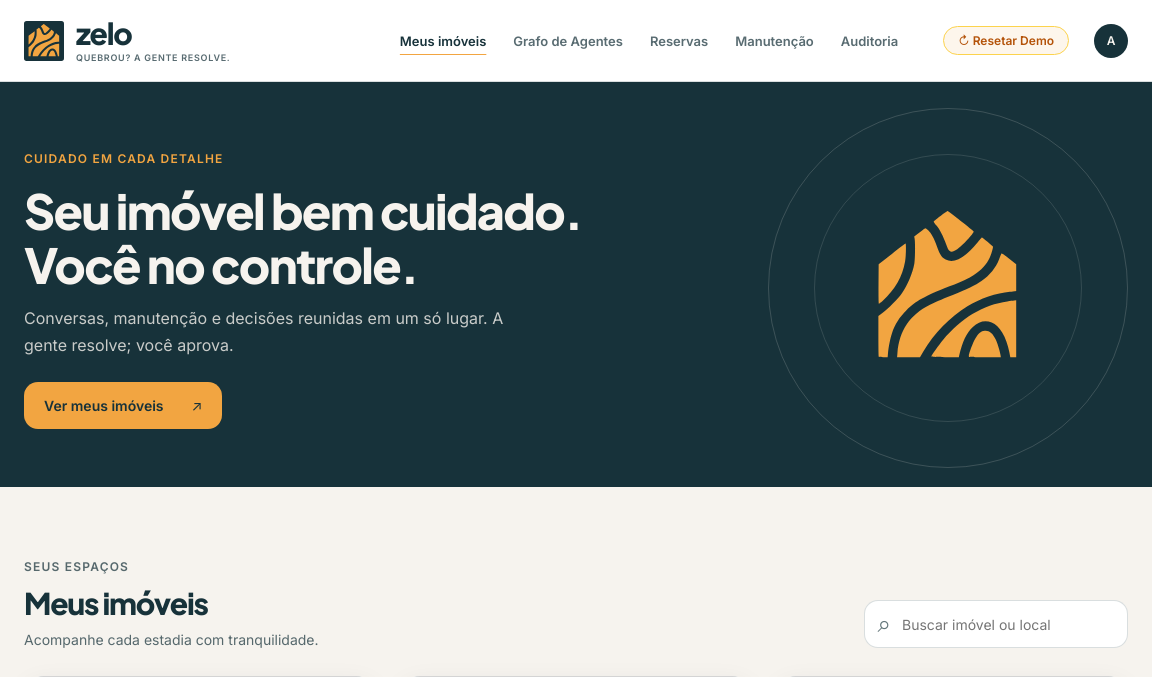
Test: navegação por imóvel › abre e fecha o modal de reset de demonstração para avaliadores
The image size is (1152, 677).
Click the button "↻ Resetar Demo".
click(1006, 40)  # box left=943, top=26, right=1069, bottom=55
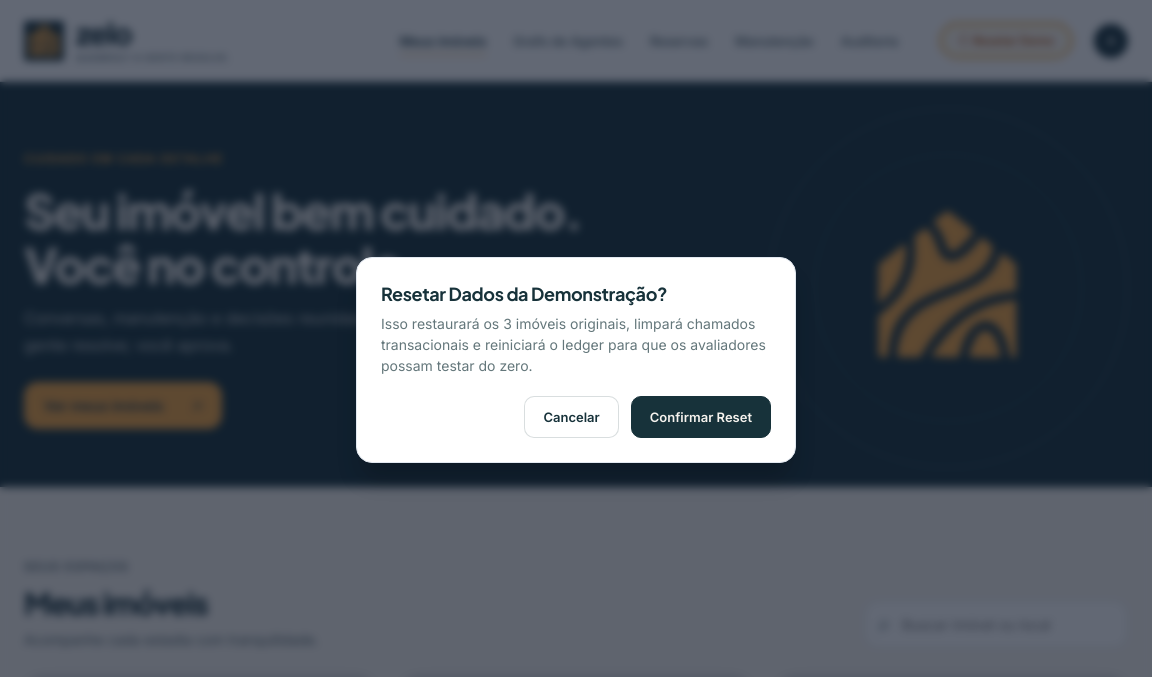
Now the heading "Resetar Dados da Demonstração?" is shown, box left=381, top=282, right=667, bottom=305
Click the button "Cancelar".
click(572, 417)  # box left=524, top=396, right=619, bottom=438
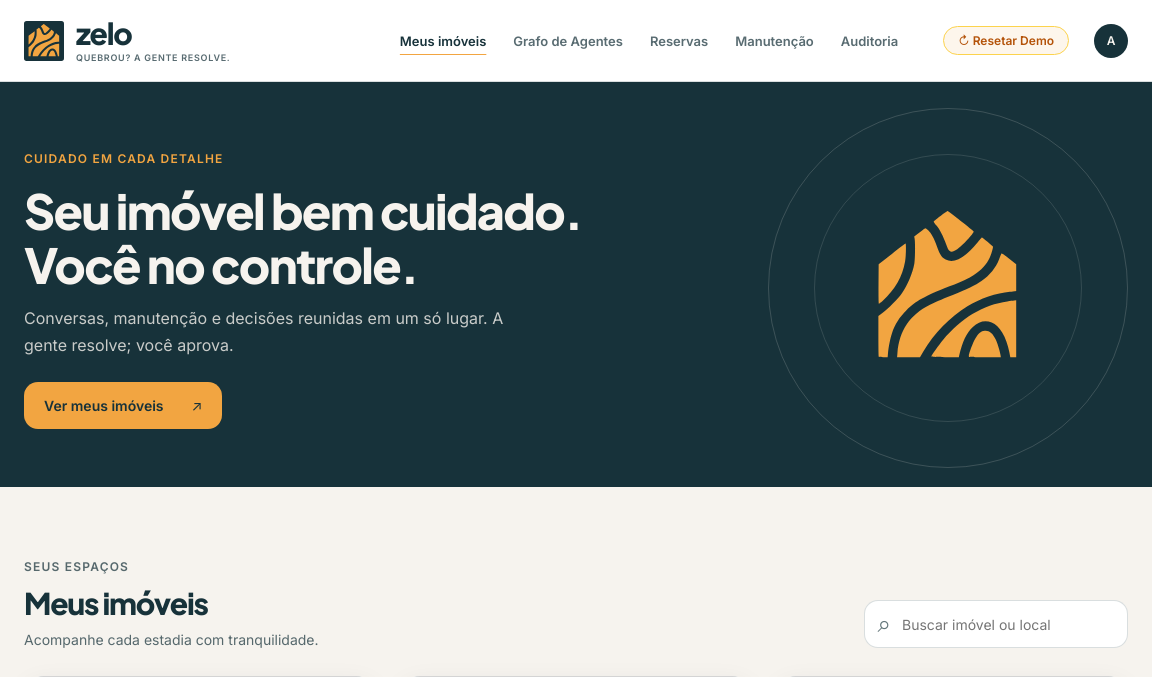
Now the heading "Resetar Dados da Demonstração?" is gone
